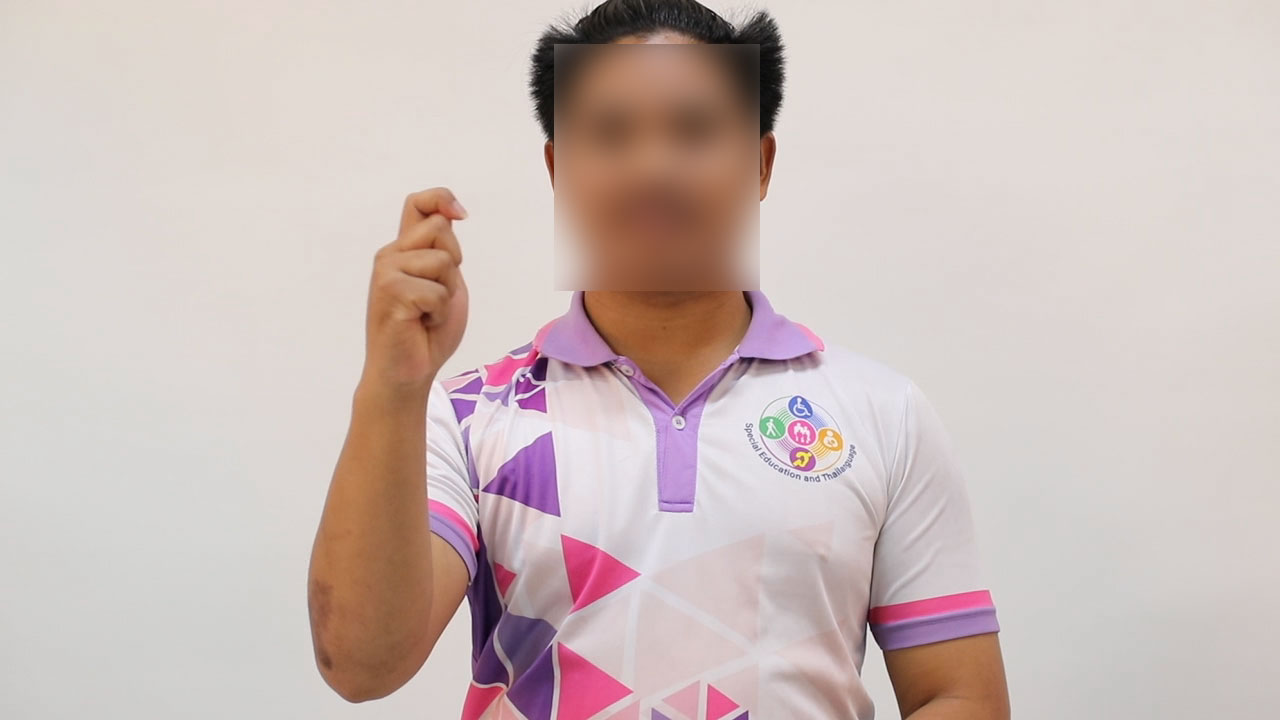or: (358, 181, 472, 400)
